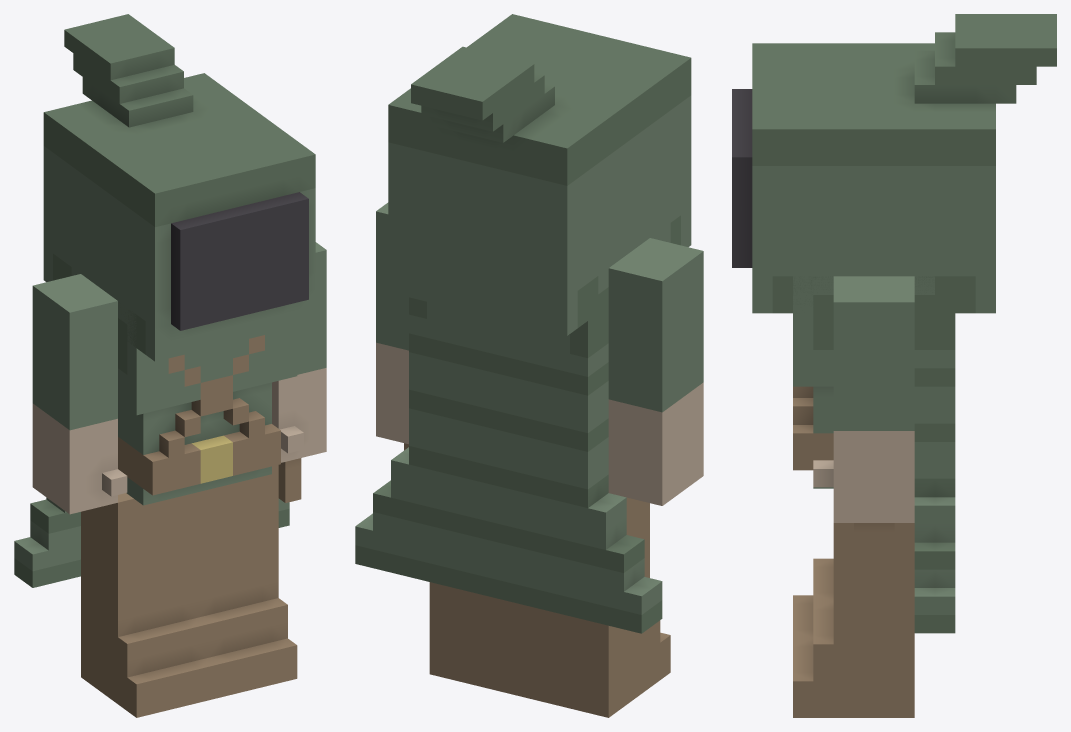
Rendered from heros_rogue.glb.
3 views of the same model, side by side, from view 1: azimuth 30°, elevation 25°; view 2: azimuth 150°, elevation 25°; view 3: azimuth 270°, elevation 25° (orthographic). The views are drawn at different scales.
Visible parts, largest first — view 1: tete, corps, jambe_g, bras_g, jambe_d, bras_d; view 2: tete, corps, bras_g, jambe_g, jambe_d, bras_d; view 3: tete, bras_d, corps, jambe_d, jambe_g.
Part boxes in pixels (box(x1,y1,x2,y2)): tete: box(43, 14, 315, 361); corps: box(14, 267, 297, 587); jambe_g: box(81, 492, 216, 717); bras_g: box(32, 274, 127, 514); jambe_d: box(198, 465, 297, 698); bras_d: box(272, 242, 326, 502); tete: box(388, 14, 691, 335); corps: box(355, 223, 670, 633); bras_g: box(608, 238, 703, 505); jambe_g: box(519, 497, 670, 717); jambe_d: box(429, 582, 518, 695); bras_d: box(376, 202, 408, 450); tete: box(732, 14, 1056, 313); bras_d: box(813, 276, 914, 569); corps: box(793, 276, 955, 633); jambe_d: box(793, 523, 914, 717); jambe_g: box(793, 558, 833, 638).
Size of the model in its own units: 1 by 2.19 by 1.
